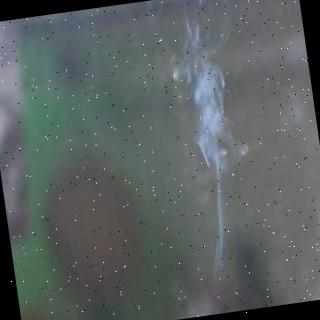smoke: (150, 17, 257, 184), (149, 251, 320, 320)
